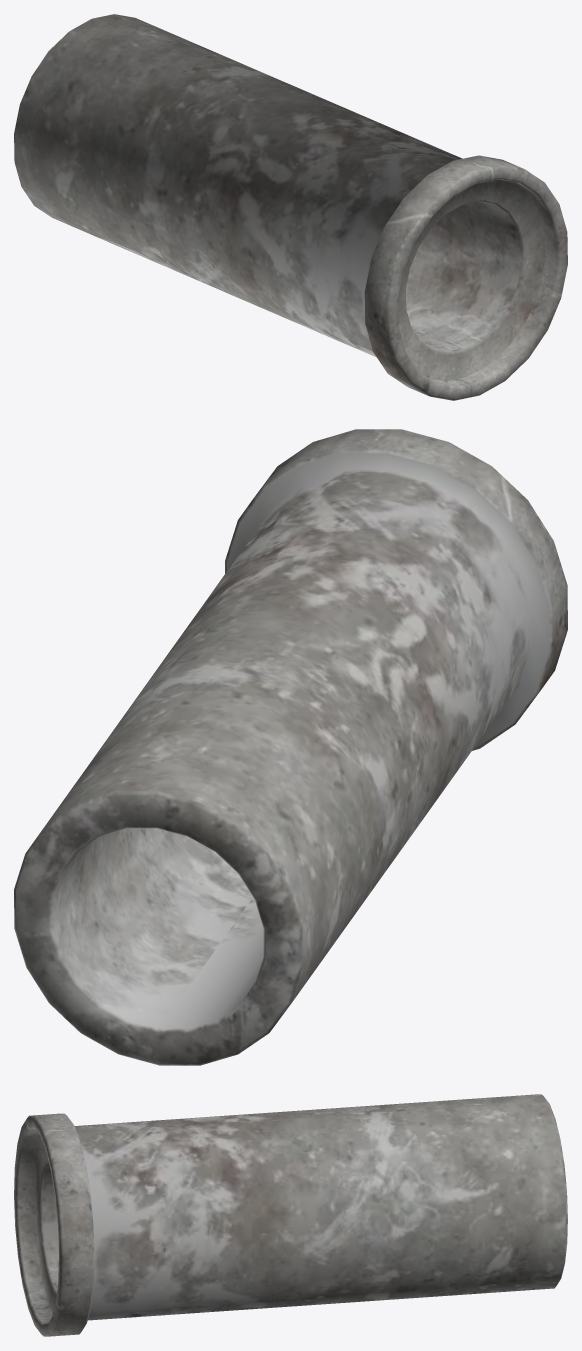
Rendered from con-pipe-long.lod0.glb.
3 views of the same model, one above another, from view 1: azimuth 30°, elevation 25°; view 2: azimuth 150°, elevation 25°; view 3: azimuth 270°, elevation 25° (orthographic). The views are drawn at different scales.
Visible parts, largest first — view 1: Concrete_Pipe2_Concrete_Pipe2_0; view 2: Concrete_Pipe2_Concrete_Pipe2_0; view 3: Concrete_Pipe2_Concrete_Pipe2_0.
Boxes of the visible parts, left/top/right/bottom form: Concrete_Pipe2_Concrete_Pipe2_0: left=14, top=14, right=567, bottom=400; Concrete_Pipe2_Concrete_Pipe2_0: left=14, top=429, right=567, bottom=1065; Concrete_Pipe2_Concrete_Pipe2_0: left=14, top=1094, right=567, bottom=1336.
Bounding box in the file's own units: 2.24 × 1.6 × 3.95.
Materials: 1 (1 with a texture image).
